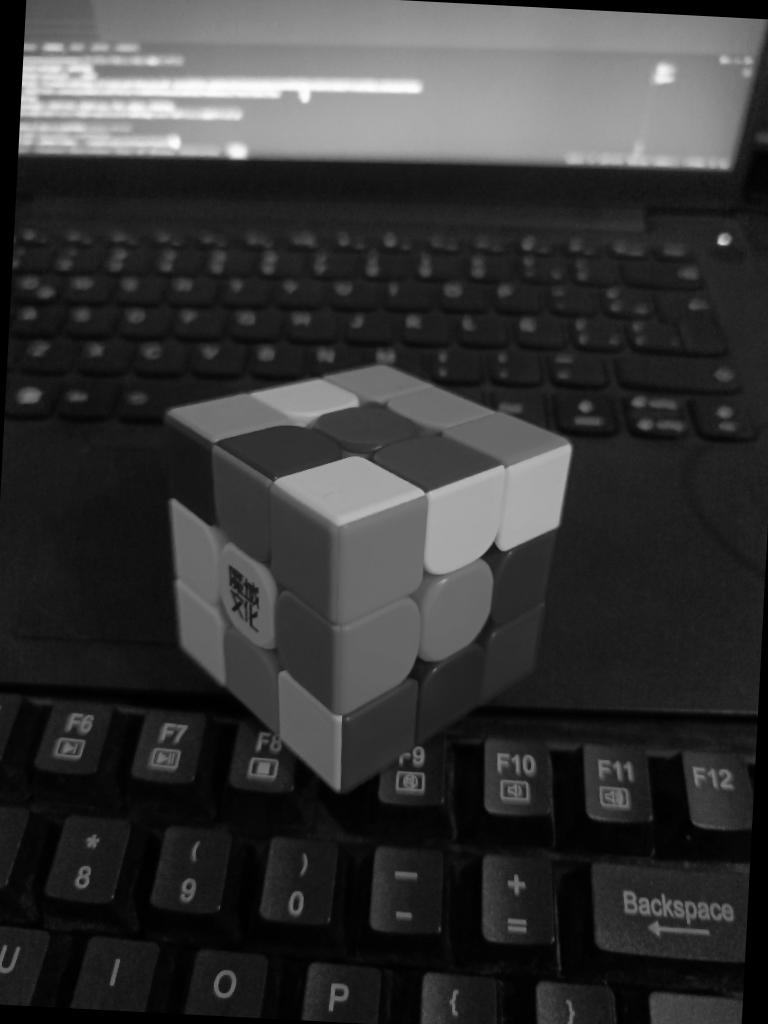rubik: (143, 349, 578, 805)
